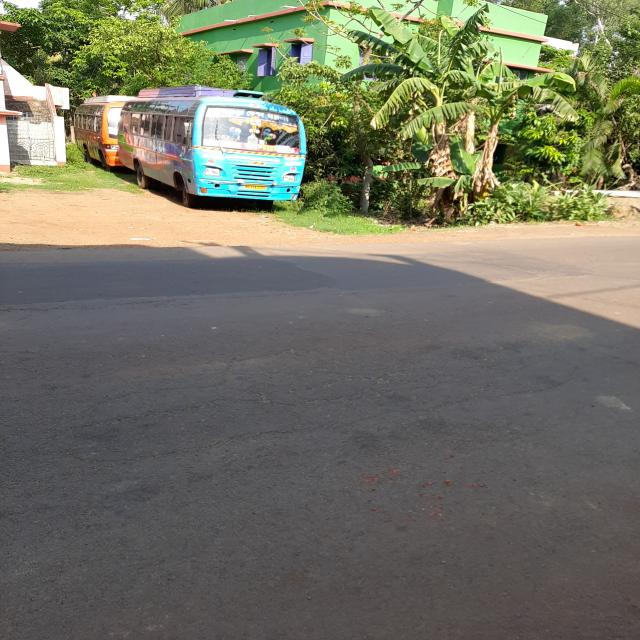Bus: (119, 90, 314, 204)
